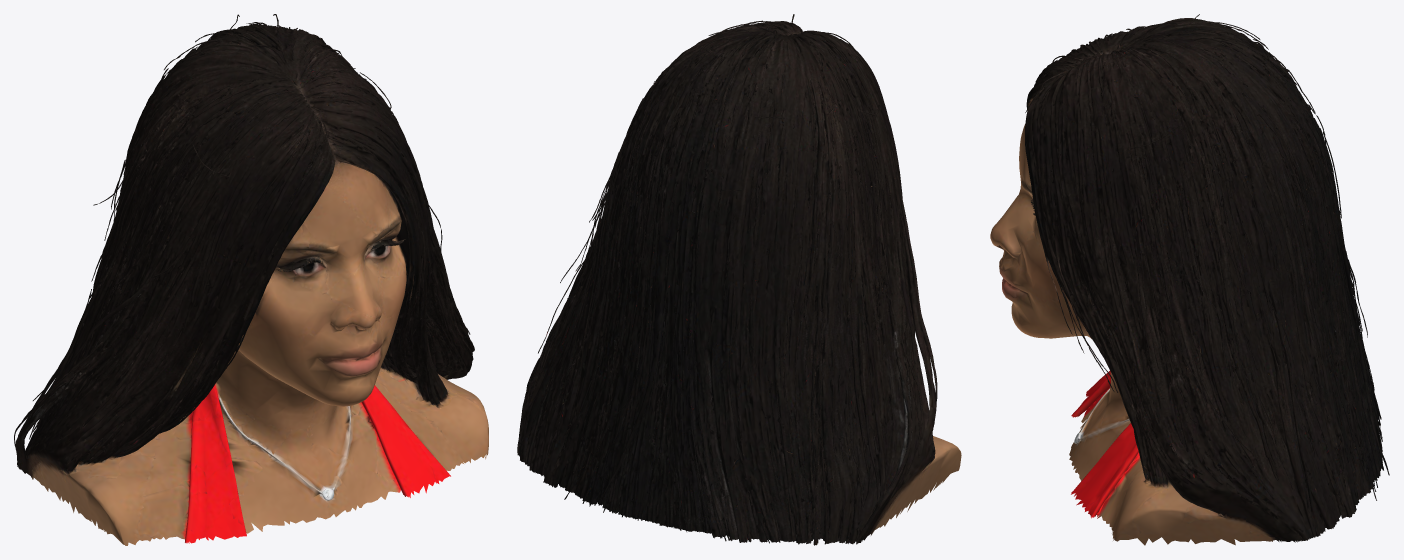
Rendered from Toni Braxton 3D Model.glb.
3 views of the same model, side by side, from view 1: azimuth 30°, elevation 25°; view 2: azimuth 150°, elevation 25°; view 3: azimuth 270°, elevation 25° (orthographic). The views are drawn at different scales.
Bounding box in the file's own units: 1.41 × 1.46 × 1.22.
1 material, 1 textured.
